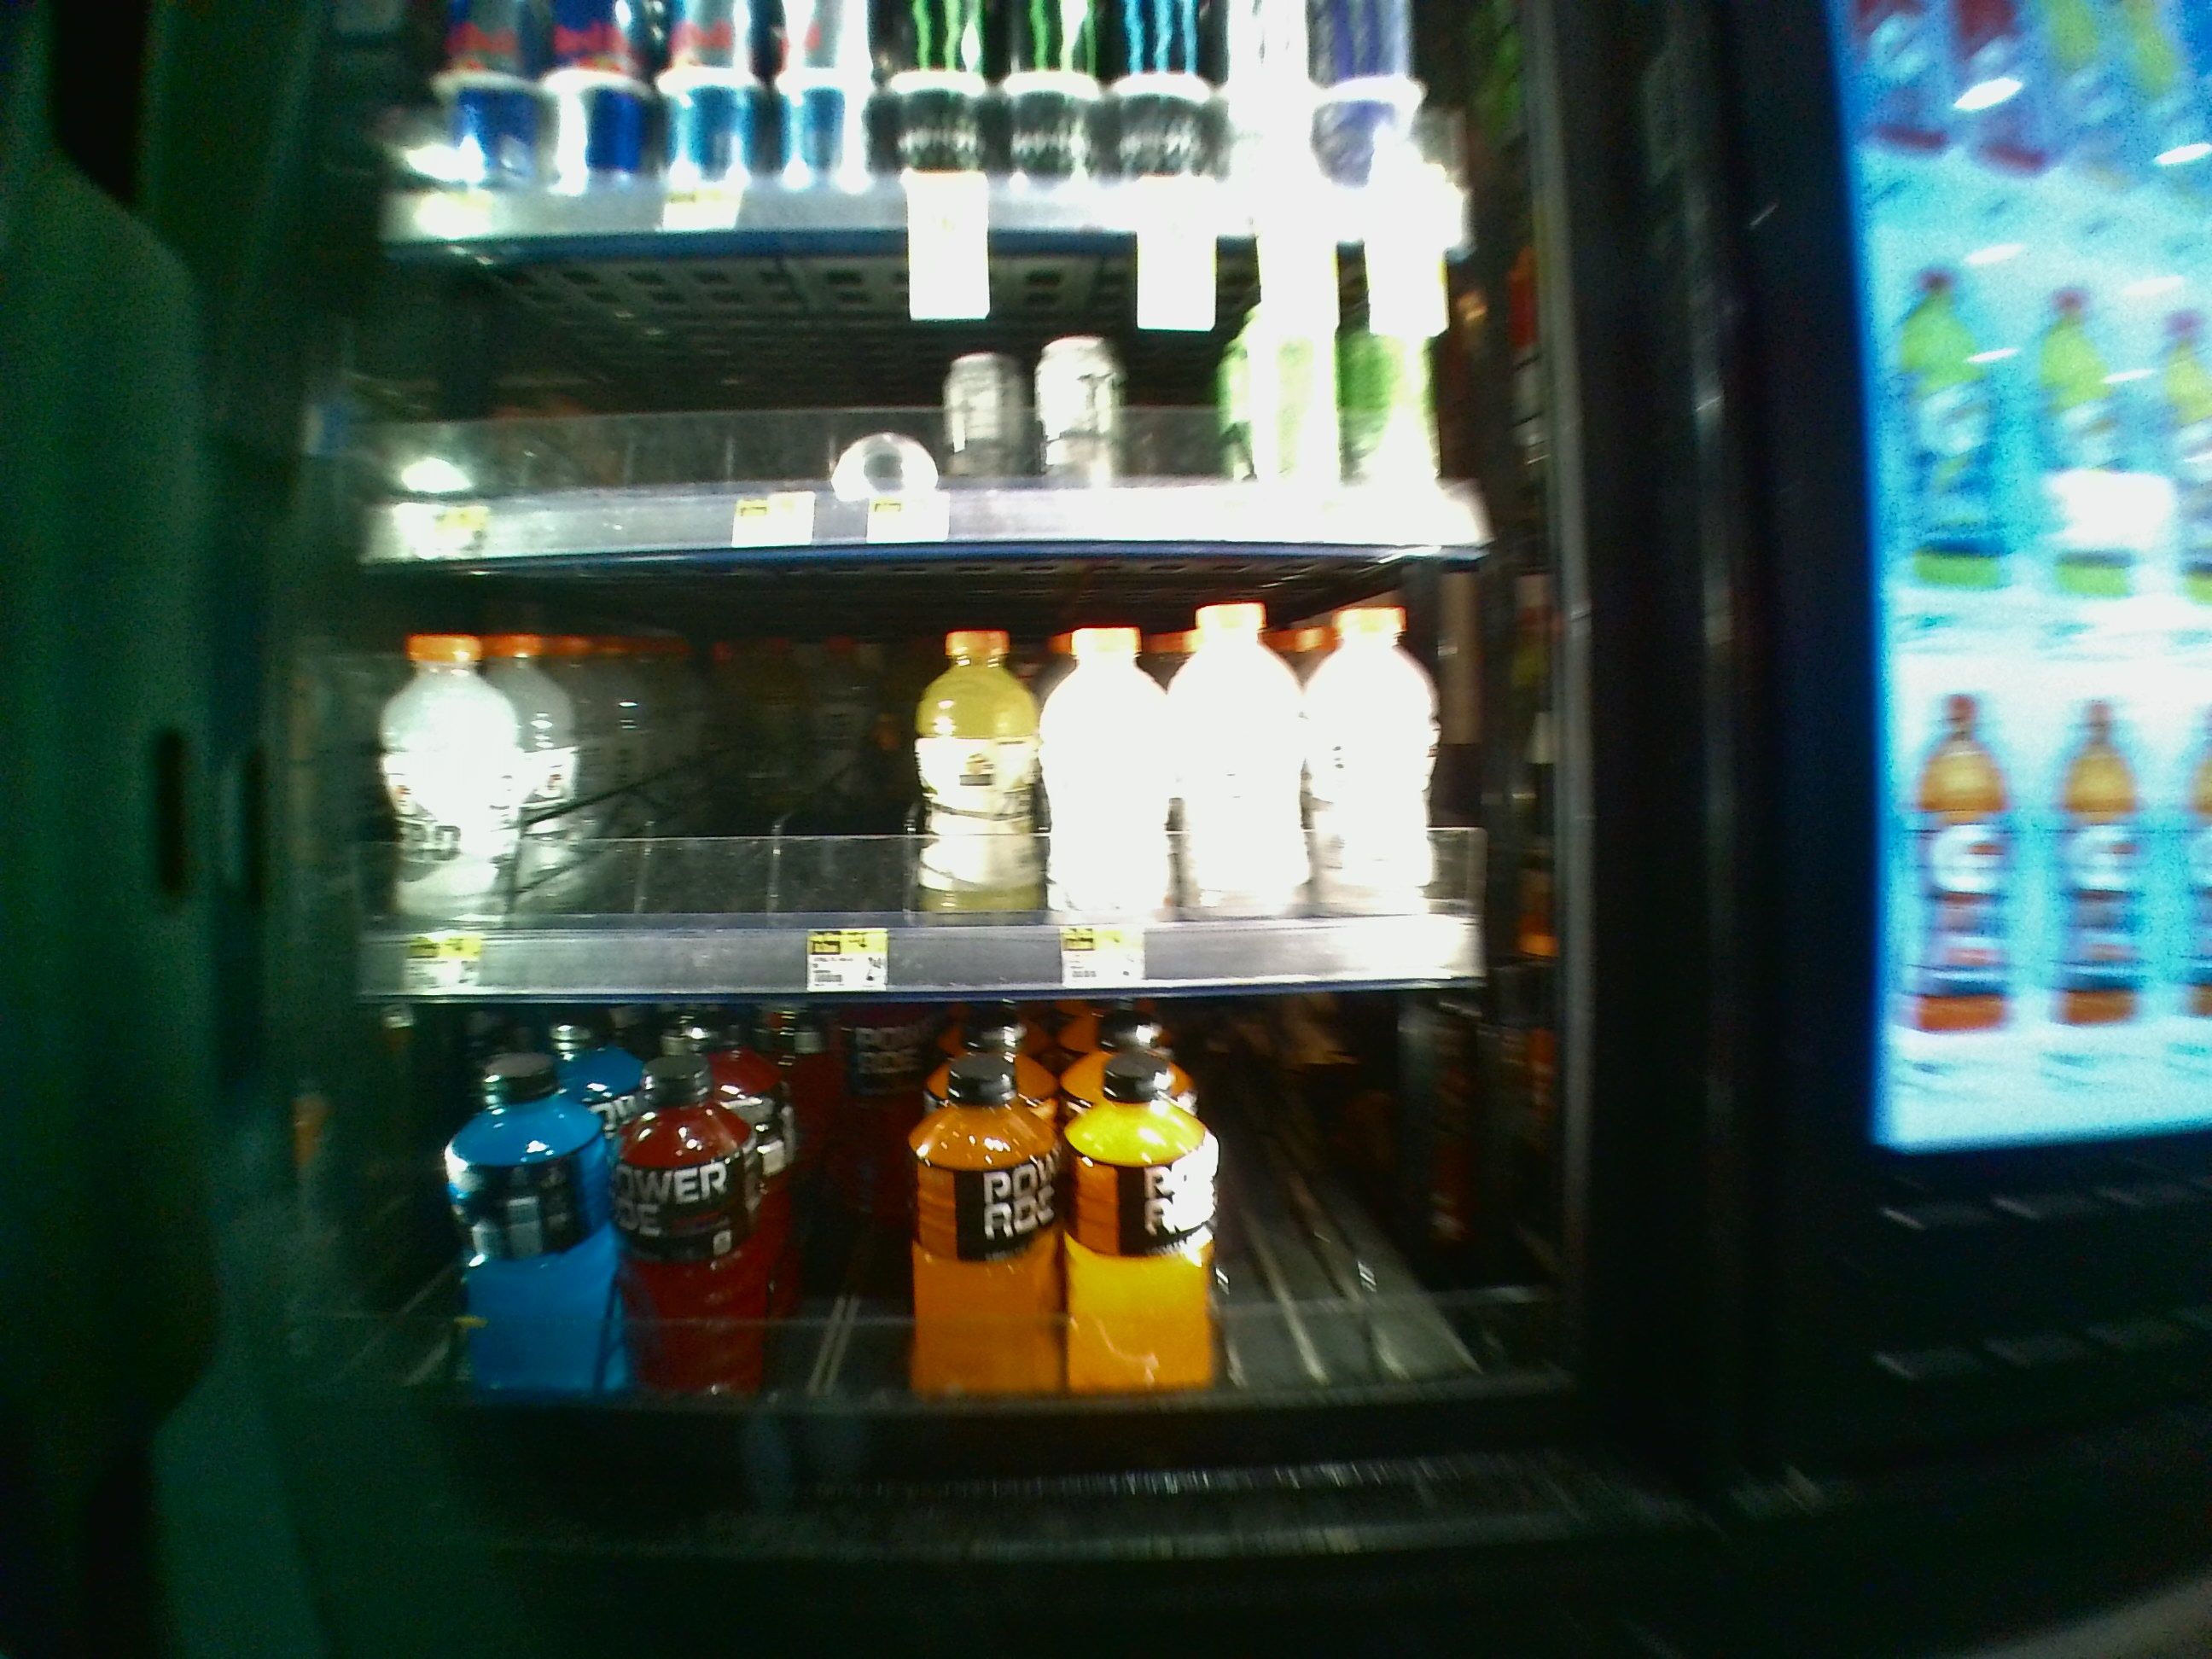shelf: (272, 990, 1583, 1434), (296, 566, 1576, 986), (307, 235, 1568, 563)
